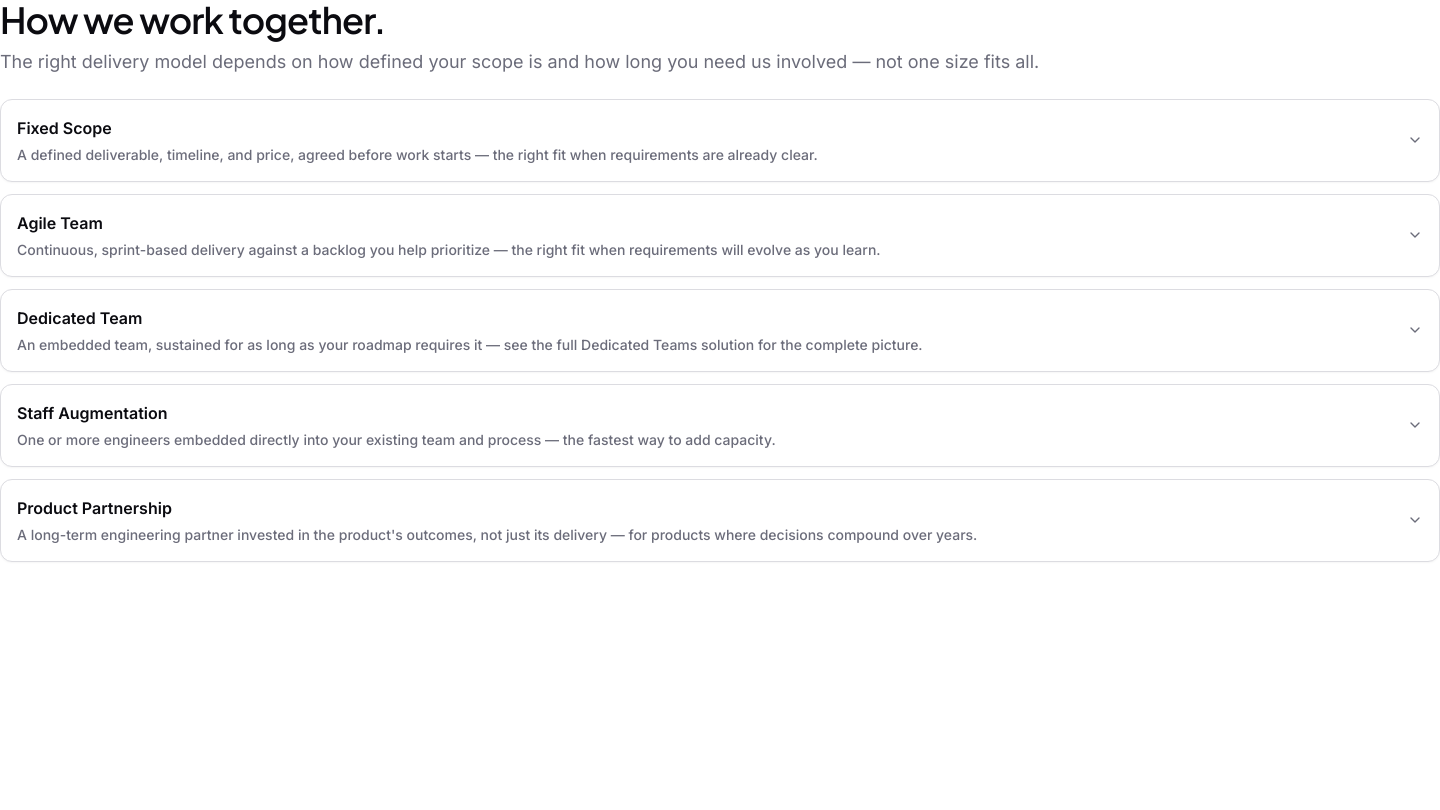
EngagementModelsSection › expands a model to reveal its best-for, pros, process, and team structure, and tracks it
Click the button "Fixed Scope" at (64, 128), box x1=17 y1=100 x2=1423 y2=181
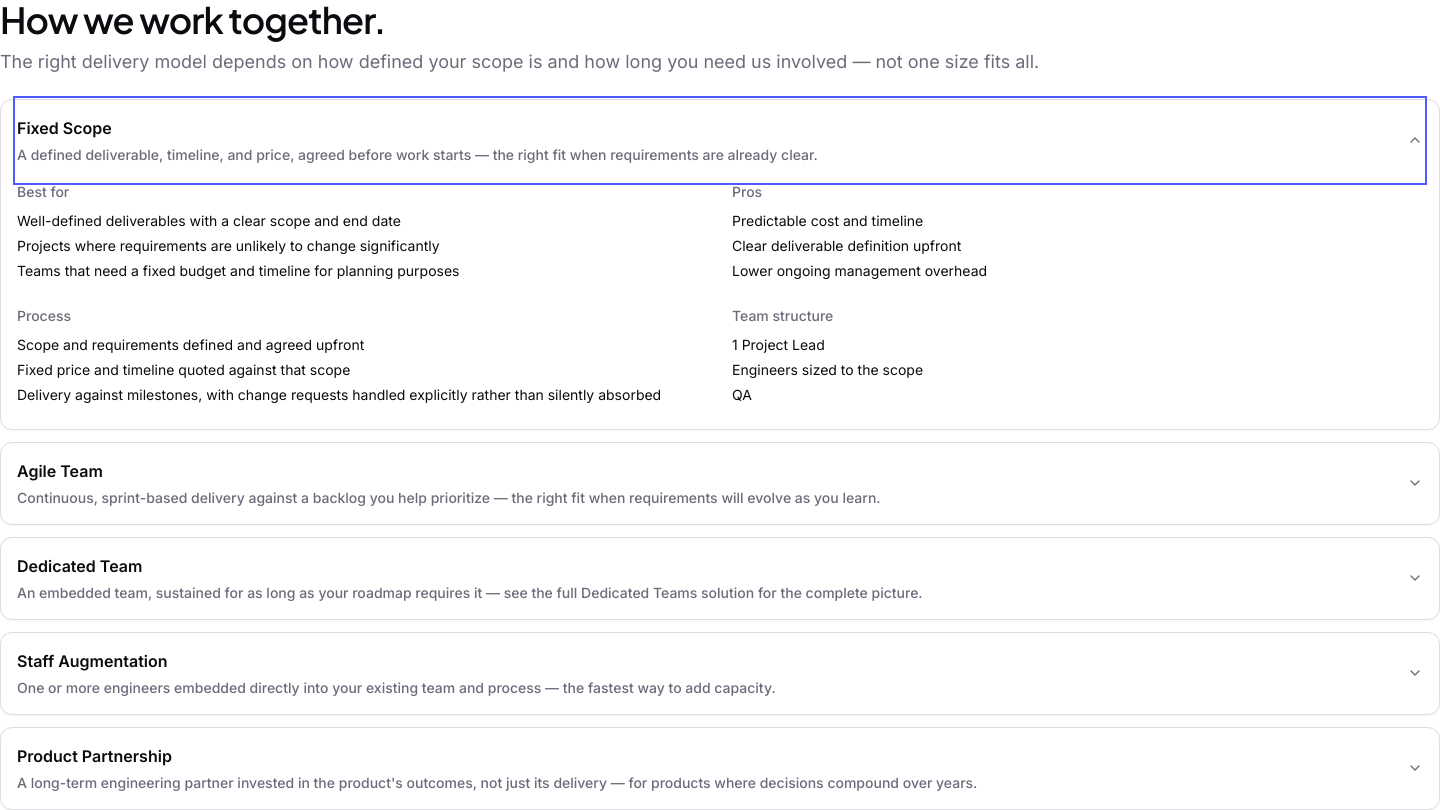
Expected: the list item "Well-defined deliverables with a clear scope and end date" is shown, x1=17 y1=212 x2=401 y2=229
Expected: the list item "Projects where requirements are unlikely to change significantly" is shown, x1=17 y1=237 x2=440 y2=254
Expected: the list item "Teams that need a fixed budget and timeline for planning purposes" is shown, x1=17 y1=262 x2=460 y2=279
